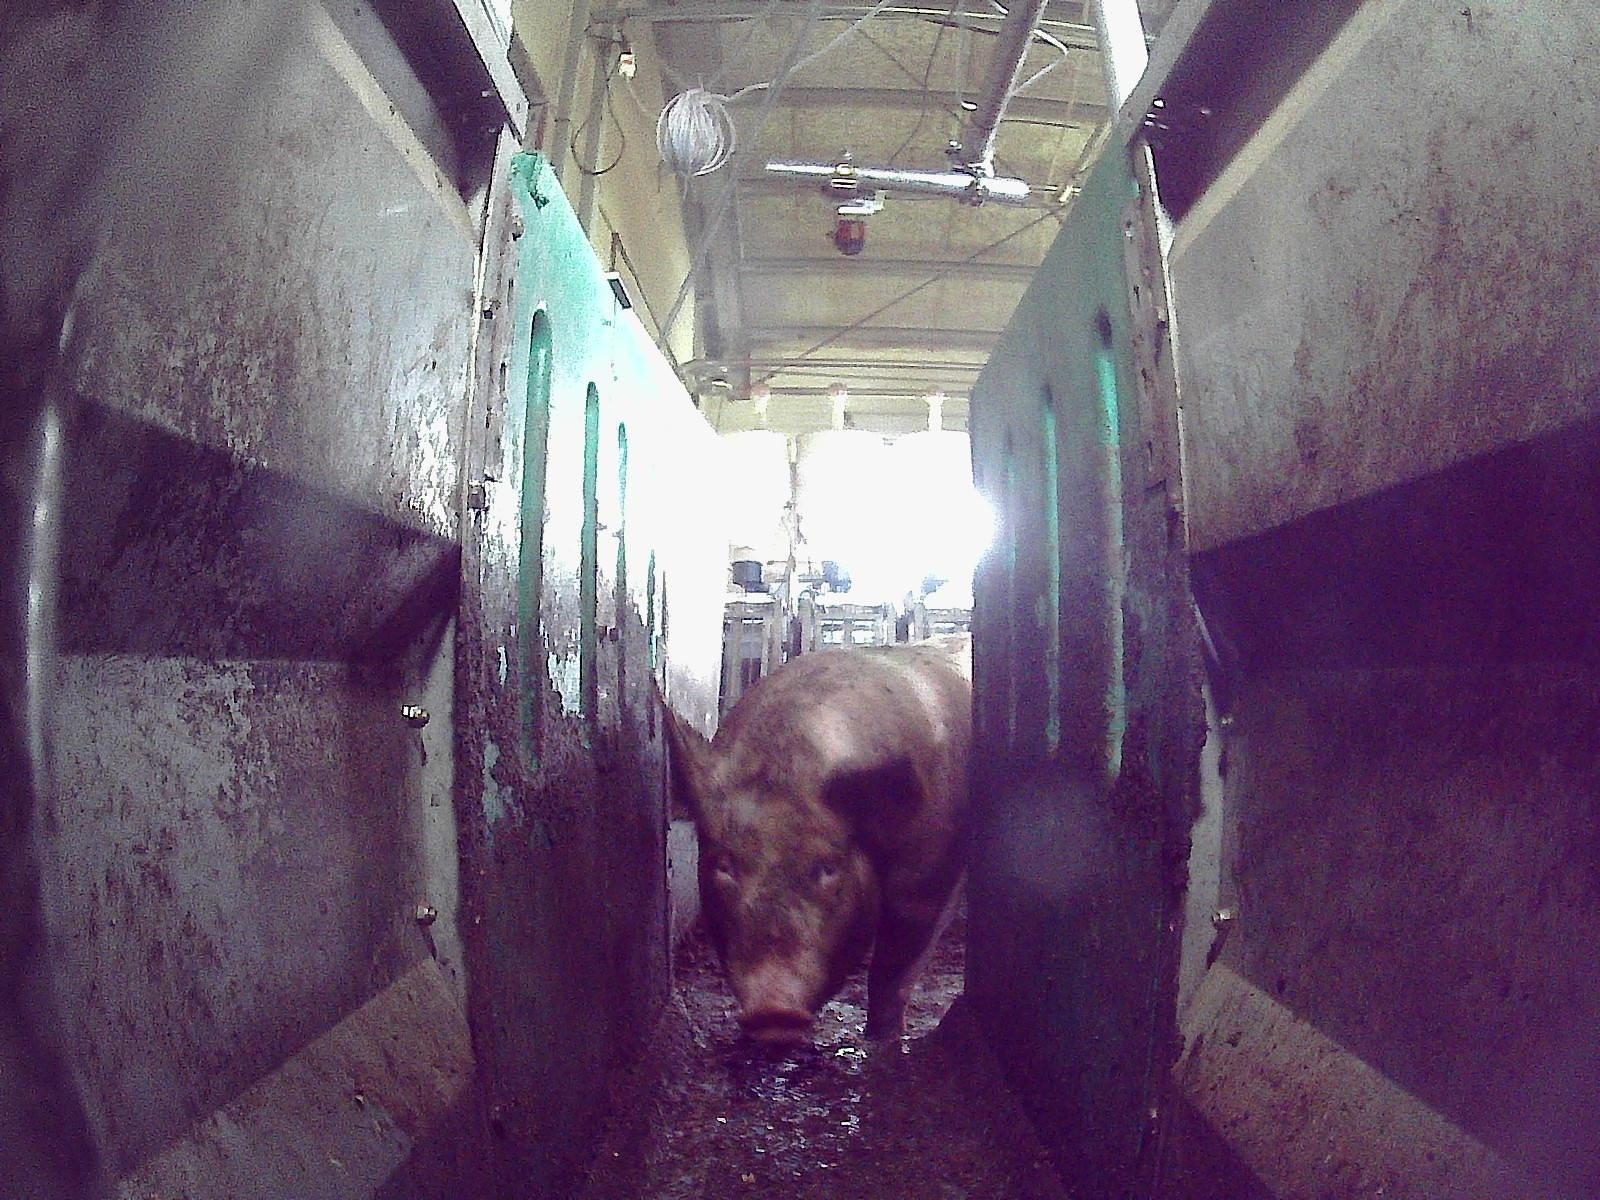Face: (692, 781, 865, 1041)
